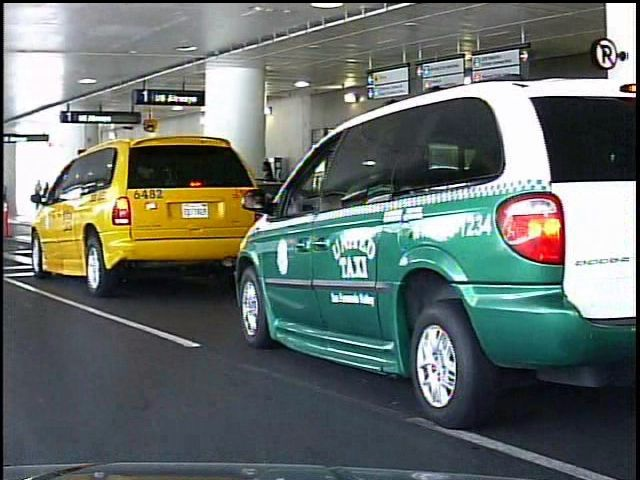person: (2, 181, 15, 216), (34, 180, 45, 220)
